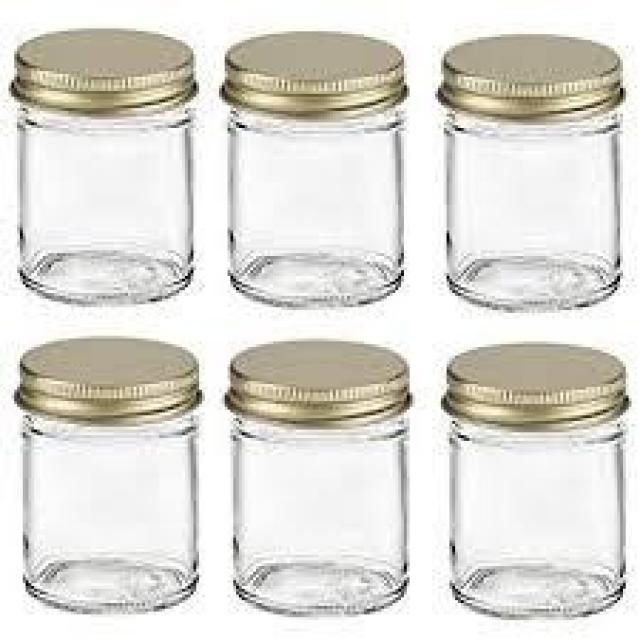non-organic waste: (216, 28, 415, 313)
